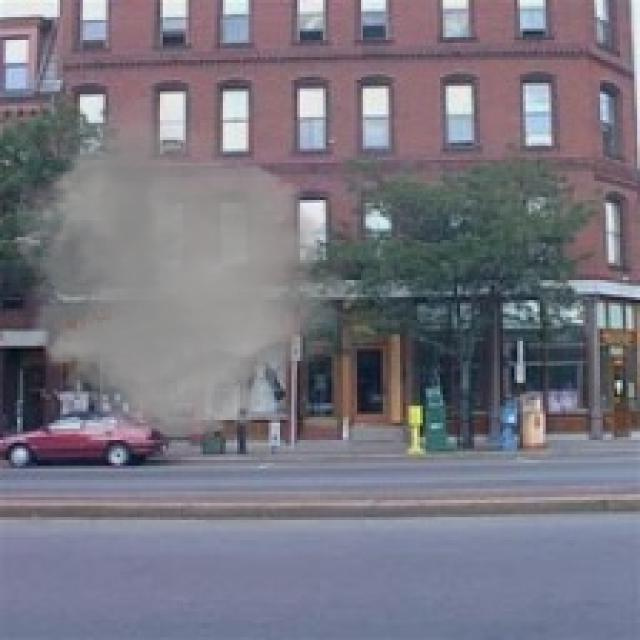smoke: (0, 94, 372, 446)
